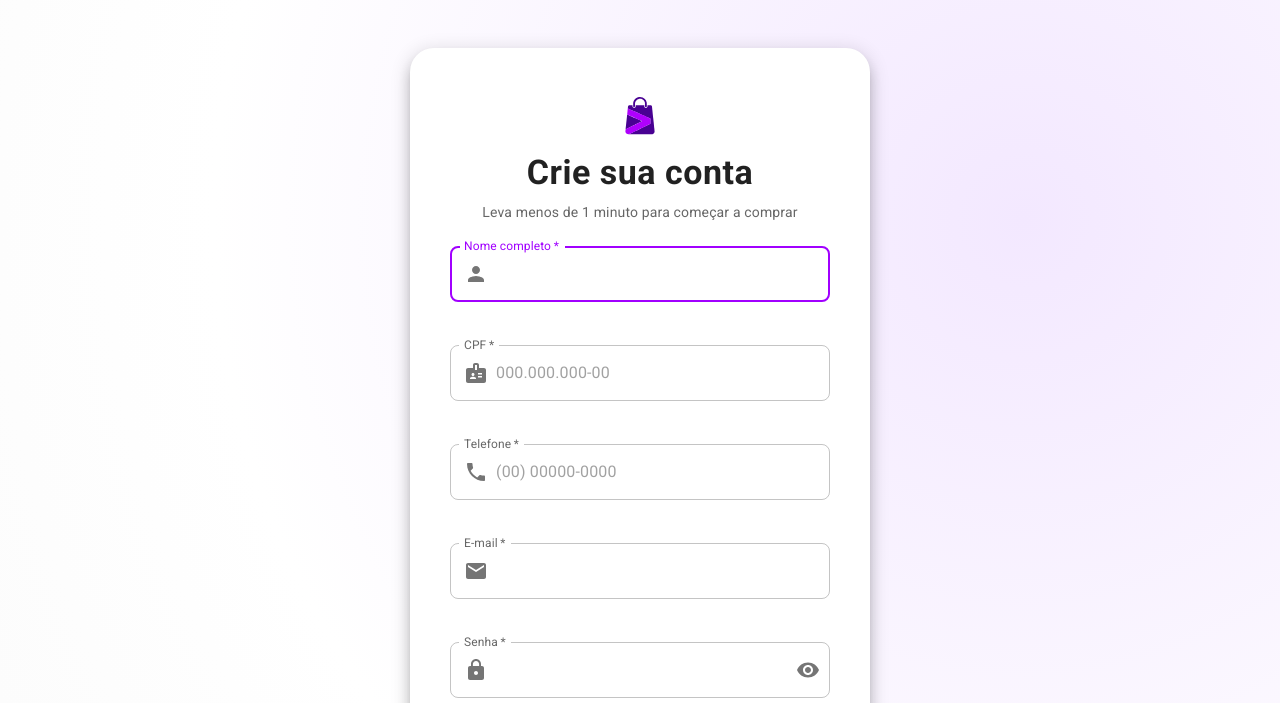
Test: Register › exibe erro do servidor
The image size is (1280, 703).
In the field labelled "Nome completo *": (663, 274) [496,246,830,302], type "João Silva"
In the field labelled "CPF *": (663, 373) [496,345,830,401], type "12345678901"
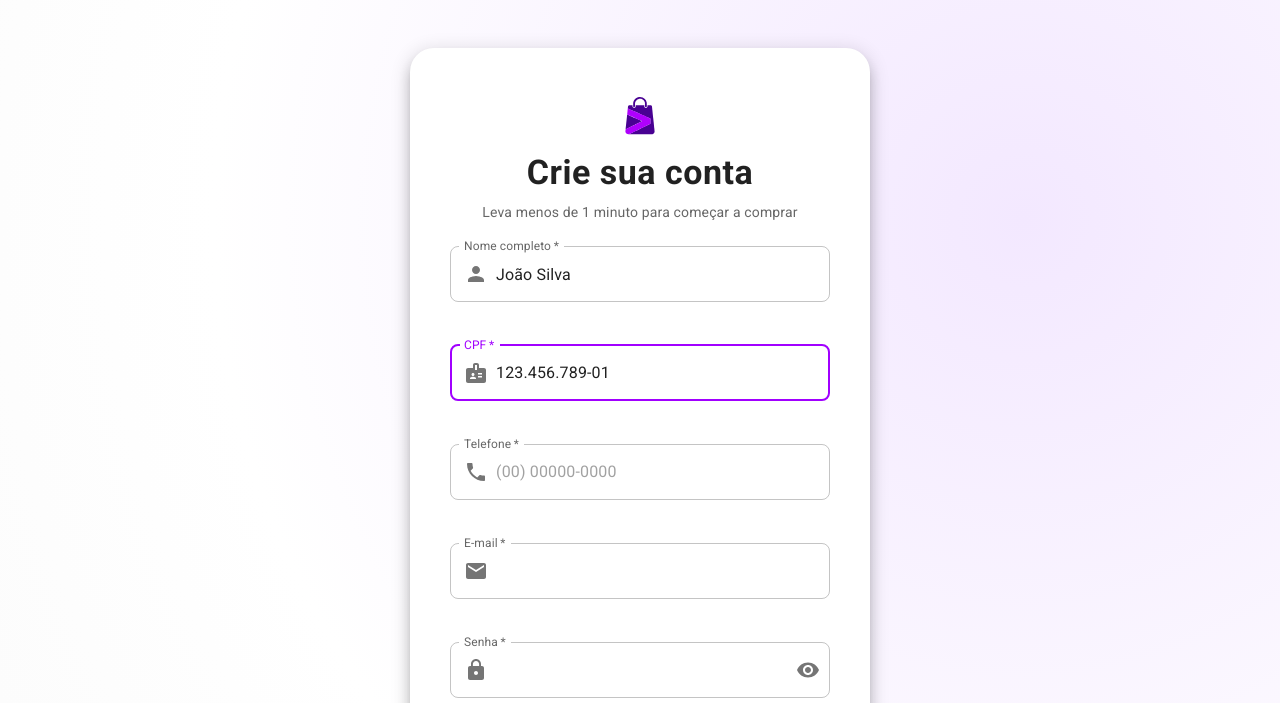
In the field labelled "Telefone *": (663, 472) [496,444,830,500], type "11987654321"
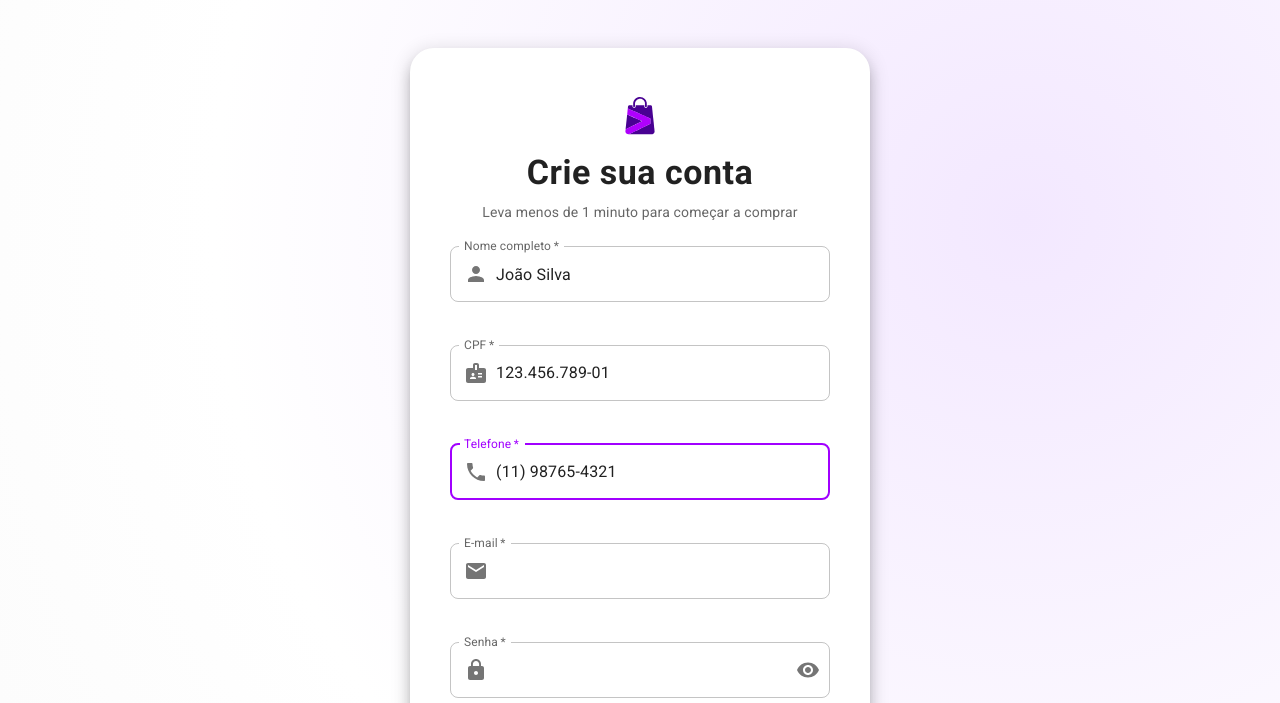
In the field labelled "E-mail *": (663, 571) [496,543,830,599], type "a@b.c"
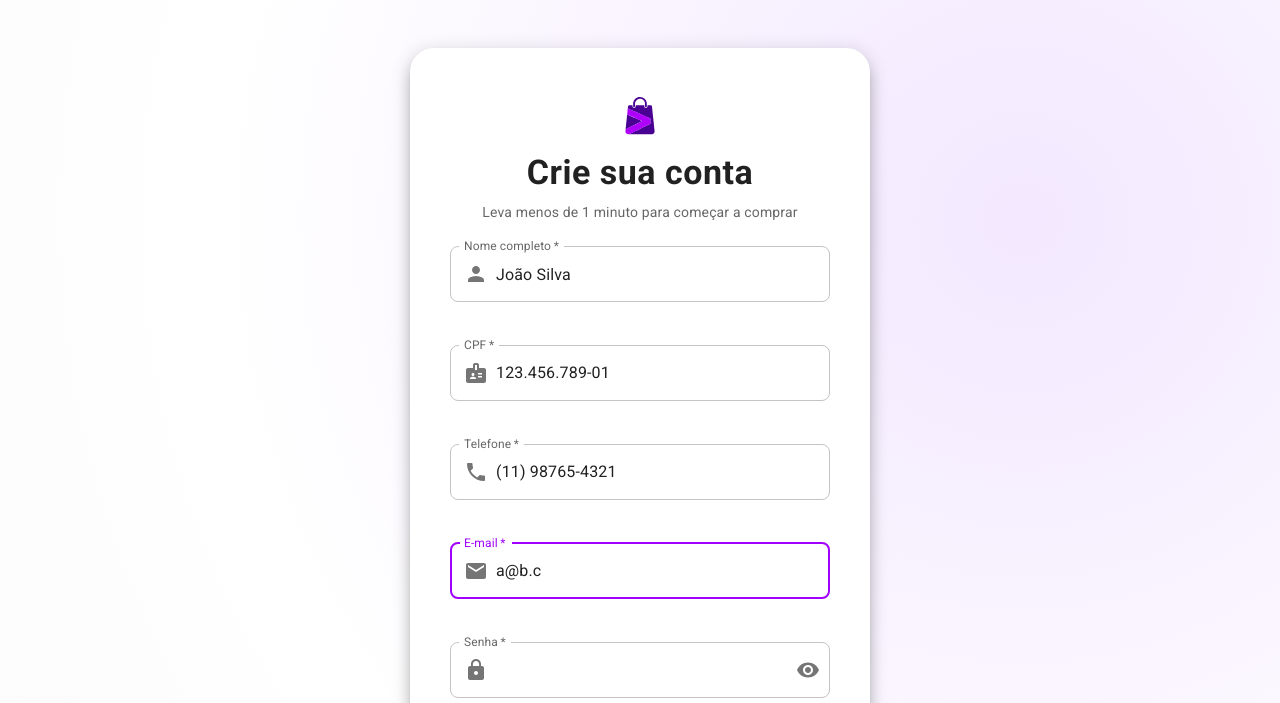
In the password field labelled "Senha *": (638, 670) [496,642,780,698], type "Strong#Pass1"
(page scrolled)
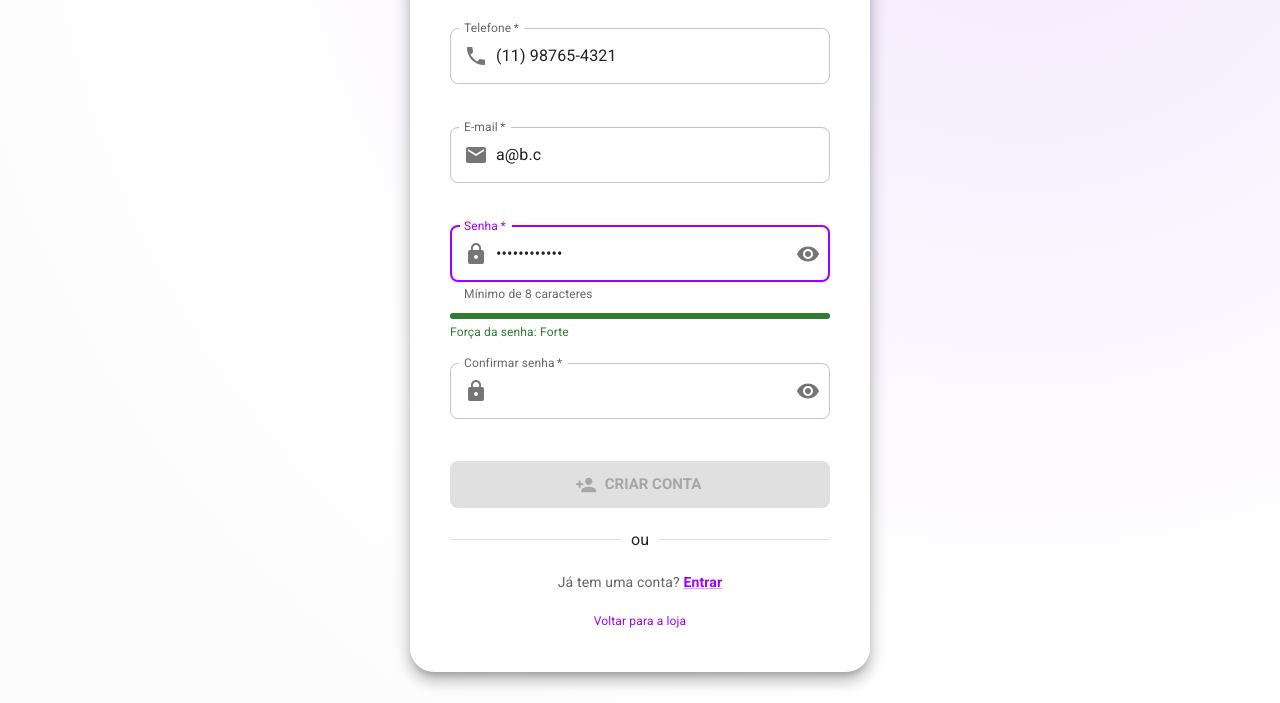
In the password field labelled "Confirmar senha *": (638, 390) [496,362,780,418], type "Strong#Pass1"
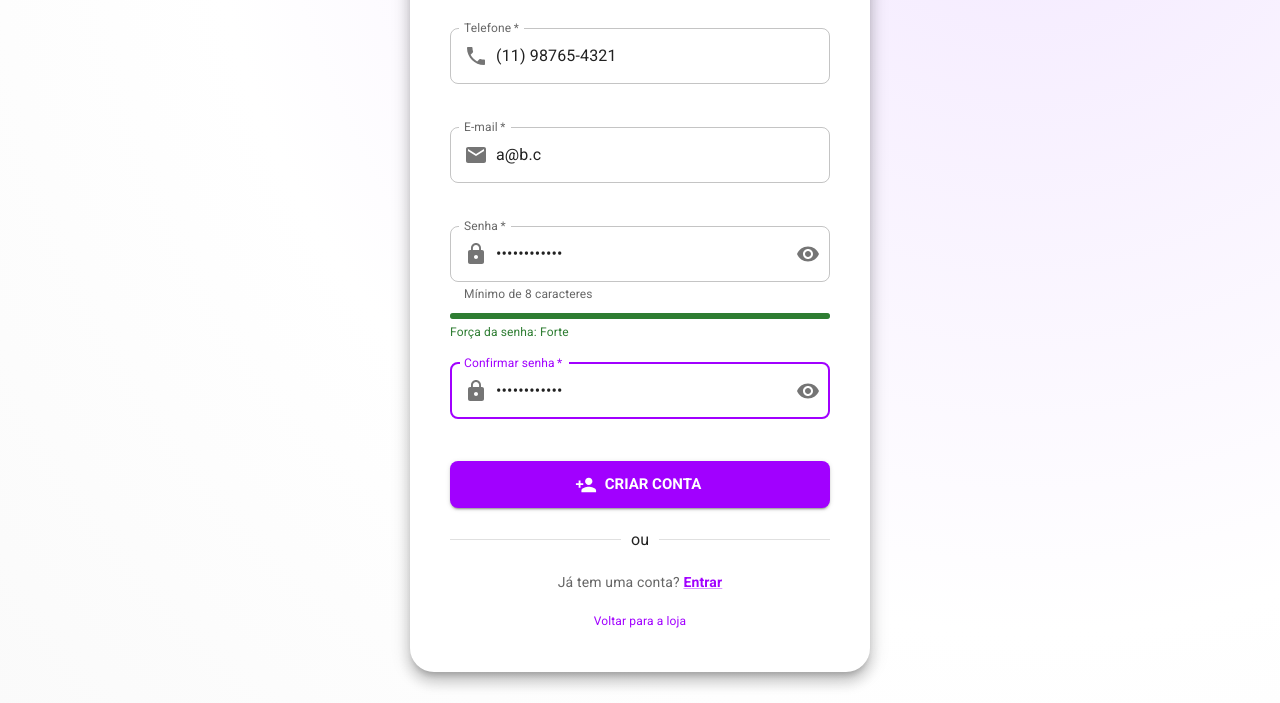
Click the button "Criar conta": click(640, 485) [450,461,830,508]
(page scrolled)
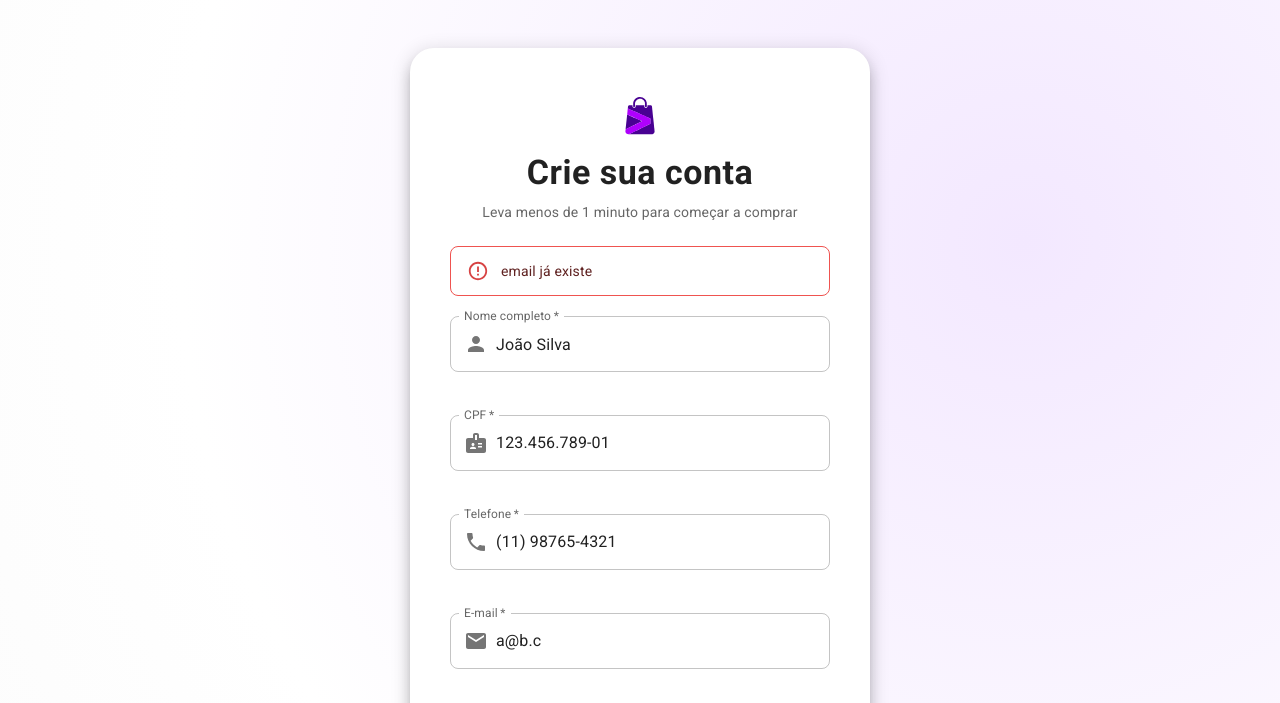
Expected: the text "email já existe" is shown, [501,263,592,279]
